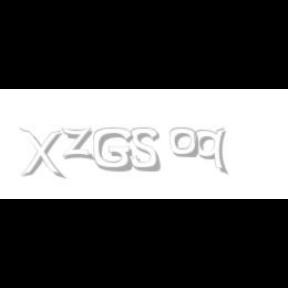G: (93, 128, 133, 172)
S: (130, 128, 162, 172)
X: (19, 128, 63, 180)
o: (170, 128, 198, 158)
q: (194, 128, 230, 176)
z: (61, 128, 97, 160)
